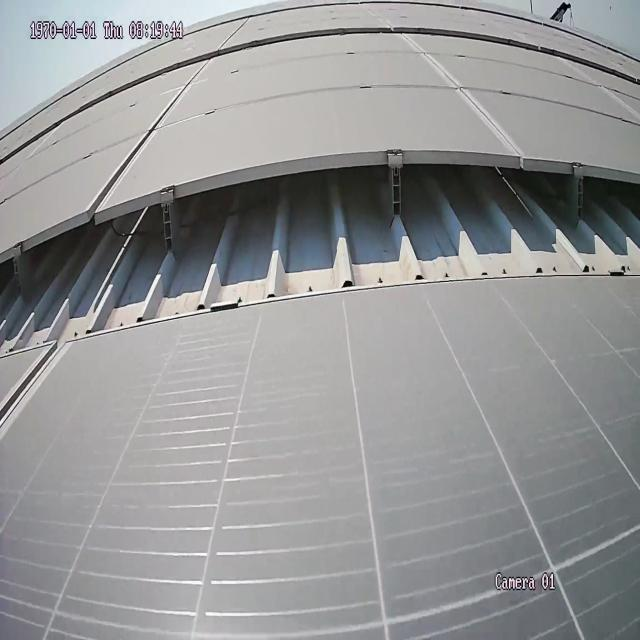interior panel: (87, 67, 208, 201), (404, 41, 525, 145), (1, 355, 64, 440)
outher panel: (0, 145, 640, 360)
